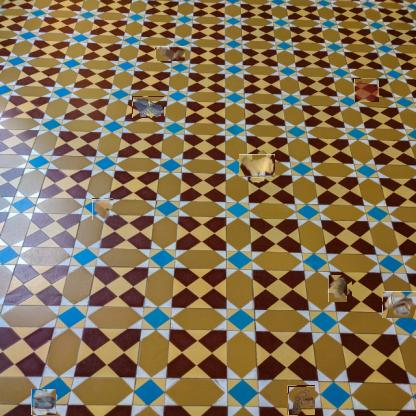dirty: (382, 291, 416, 318), (243, 151, 272, 181), (288, 386, 316, 416), (30, 389, 58, 416), (326, 277, 350, 300), (92, 198, 113, 221), (156, 46, 186, 61)
liquid: (132, 96, 164, 118), (354, 78, 379, 102)
